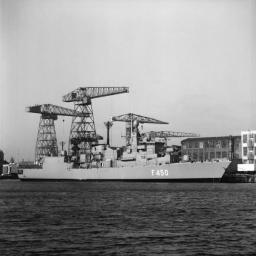Fragata: (17, 108, 234, 185)
